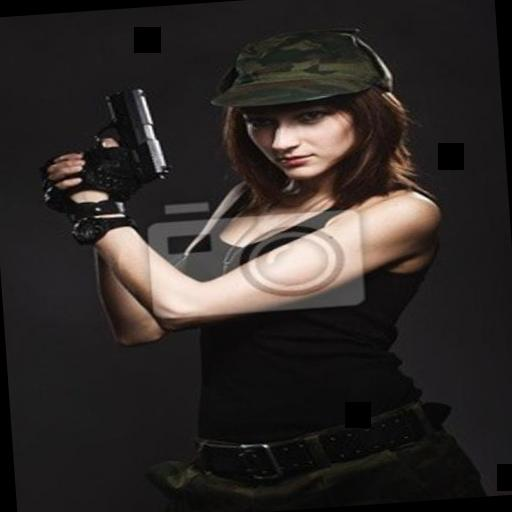Handgun: (63, 80, 176, 196)
